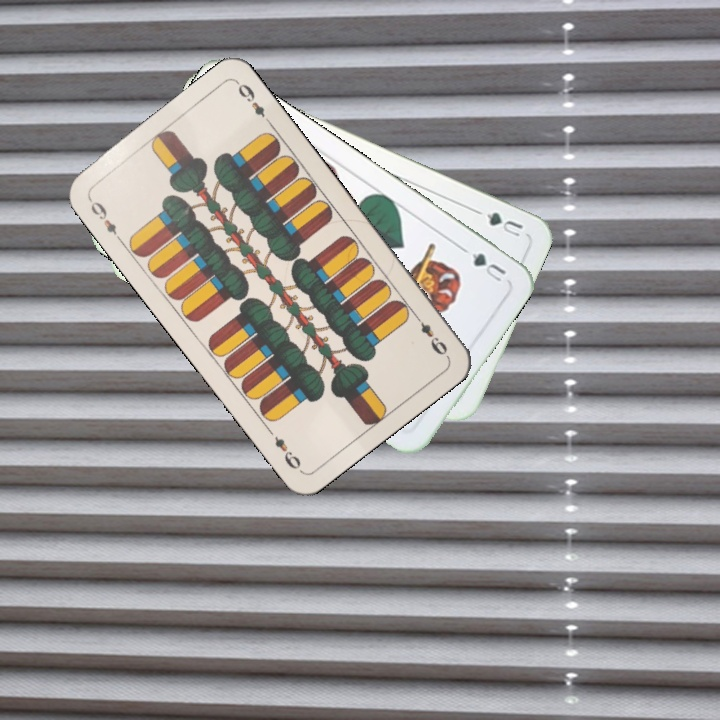E9: (409, 309, 451, 360), (84, 194, 125, 245)
GU: (459, 244, 509, 285), (482, 208, 526, 240)
